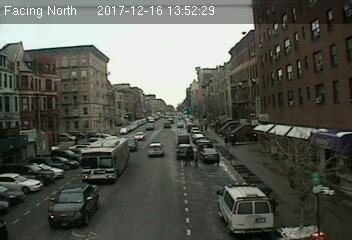bus: (81, 136, 131, 186)
car: (48, 184, 100, 225), (199, 147, 220, 162), (146, 142, 166, 157), (177, 144, 195, 158)
police: (215, 182, 274, 235)
